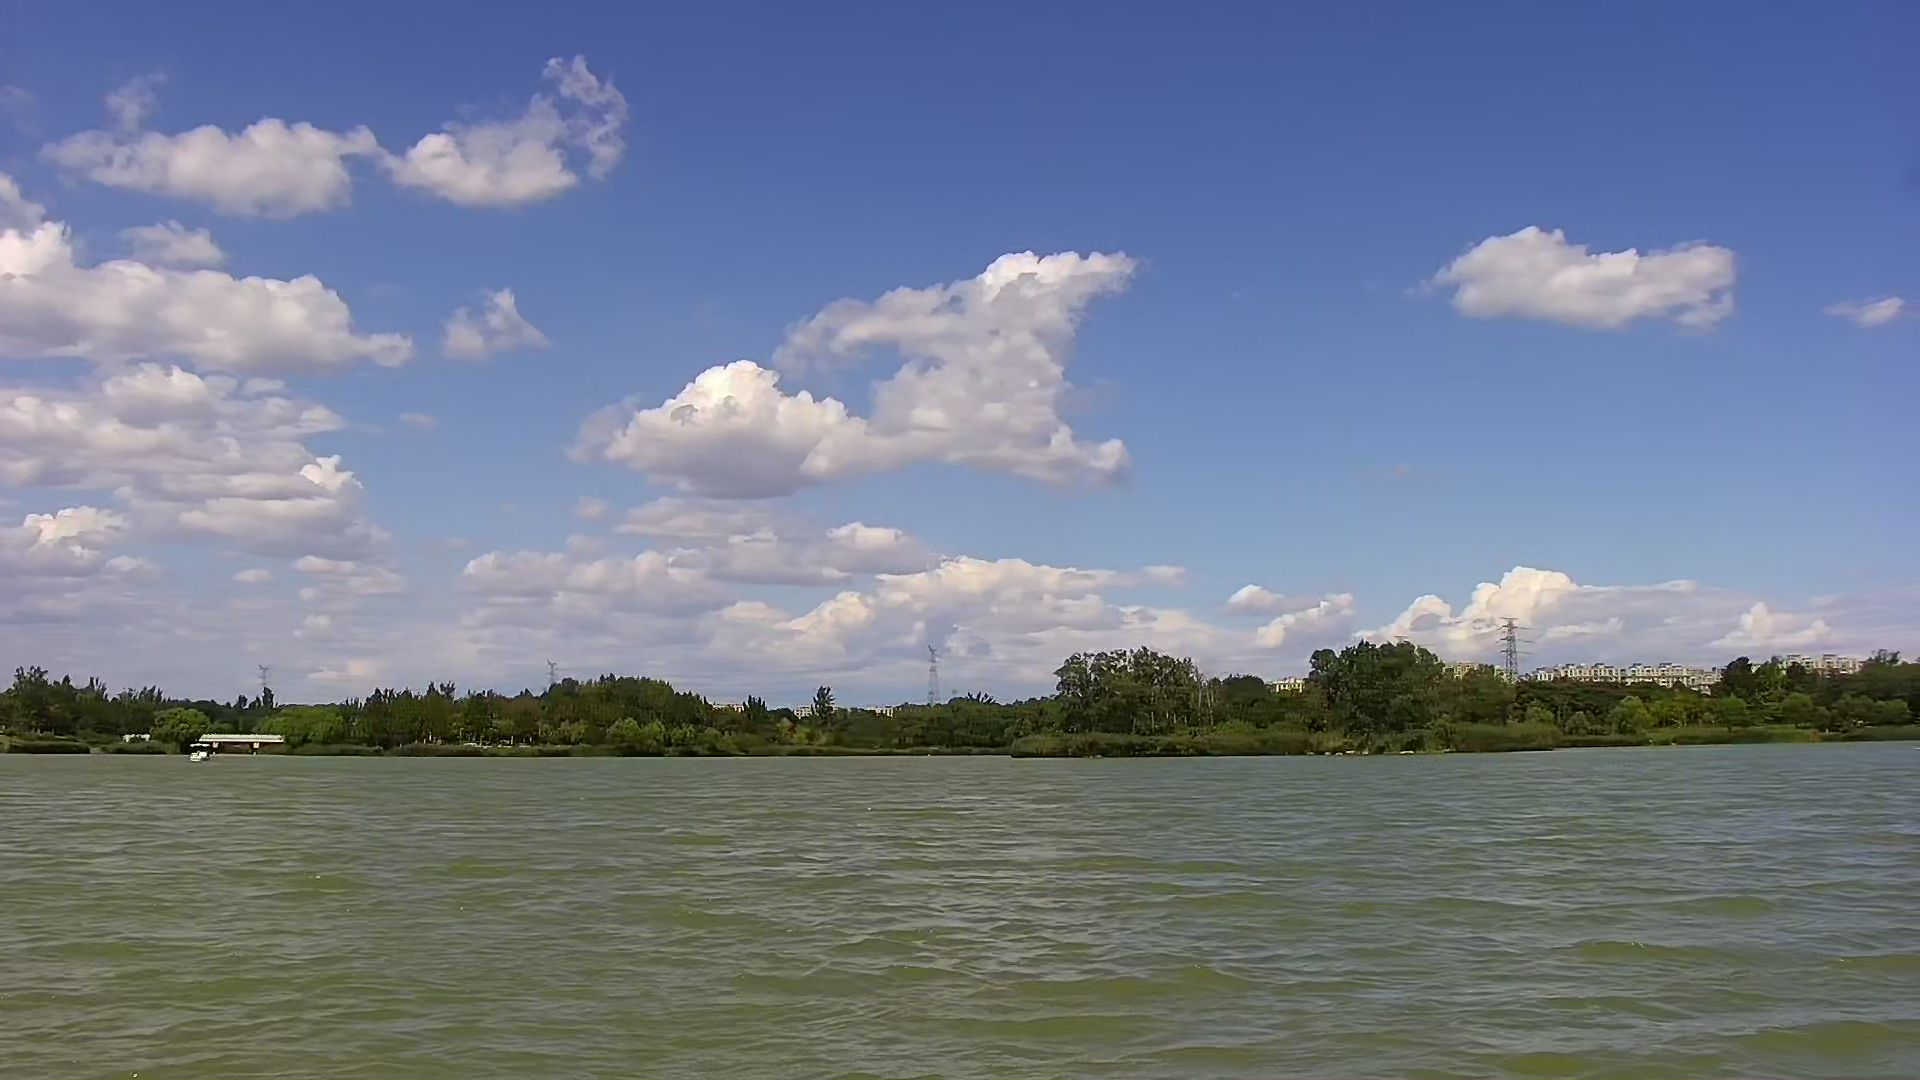bridge: (199, 725, 281, 756)
